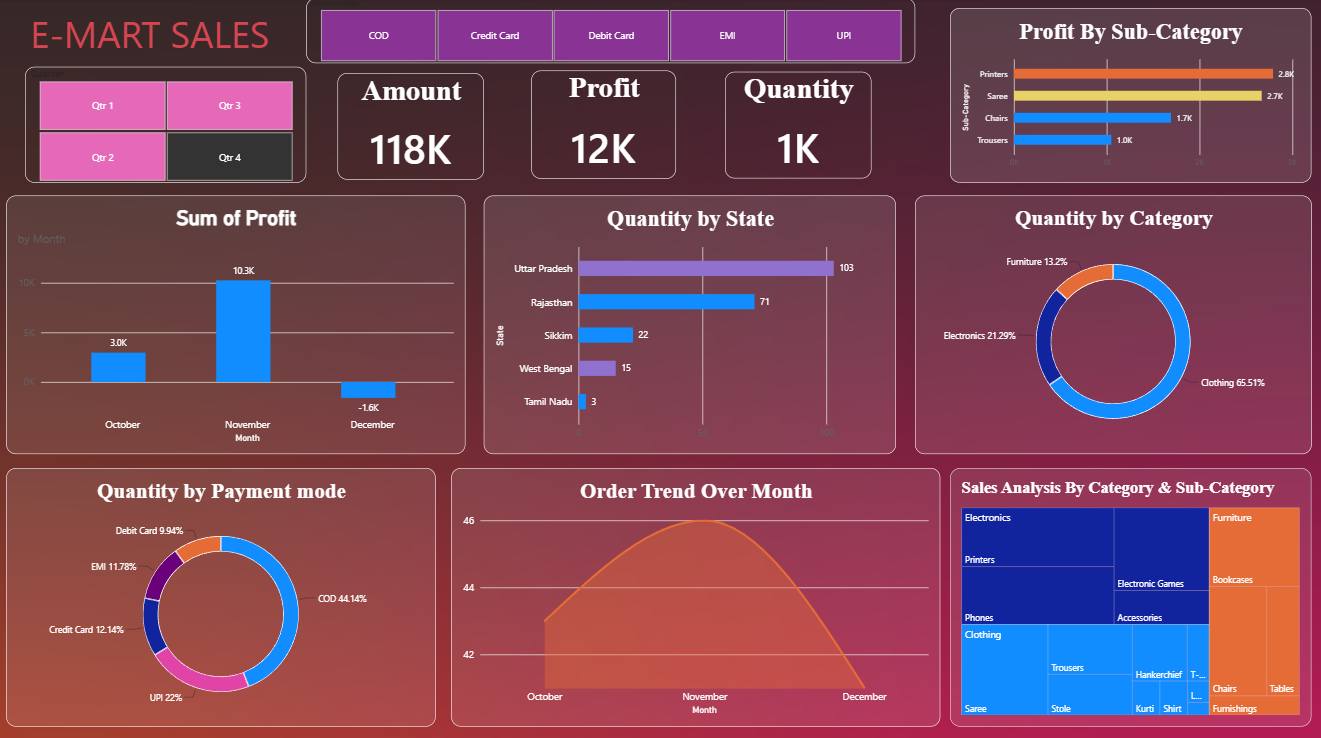

This screenshot's page, from the dashboard's own definition file:
{"tool":"powerbi","page":{"name":"Page 1","canvas":[1920,1080],"ordinal":0},"visuals":[{"type":"cardVisual","title":"Amount","fields":{"Data":["Sum(Details.Amount)"]},"box":[495.8,108.6,212,154.4],"z":0},{"type":"cardVisual","title":"Profit","fields":{"Data":["Sum(Details.Profit)"]},"box":[776.3,105,209.9,156.4],"z":1000},{"type":"cardVisual","title":"Quantity","fields":{"Data":["Sum(Details.Quantity)"]},"box":[1056.8,106.8,212,154.4],"z":2000},{"type":"barChart","title":"Profit By Sub-Category","fields":{"Category":["Details.Sub-Category"],"Y":["Sum(Details.Profit)"]},"box":[1383.2,14.4,522.8,253.2],"z":3000},{"type":"columnChart","fields":{"Category":["Orders.Order Date.Variation.Date Hierarchy.Month"],"Y":["Sum(Details.Profit)"]},"box":[16.5,286.1,664.8,374.6],"z":4000},{"type":"barChart","title":"Quantity by State","fields":{"Category":["Orders.State"],"Y":["Sum(Details.Quantity)"]},"box":[708.1,286.1,596.9,374.6],"z":5000},{"type":"donutChart","title":"Quantity by Category","fields":{"Category":["Details.Category"],"Y":["Sum(Details.Quantity)"]},"box":[1331.7,286.1,574.3,374.6],"z":6000},{"type":"donutChart","title":"Quantity by Payment mode","fields":{"Category":["Details.PaymentMode"],"Y":["Sum(Details.Quantity)"]},"box":[16.5,681.3,621.6,374.6],"z":7000},{"type":"areaChart","title":"Order Trend Over Month","fields":{"Category":["Orders.Order Date.Variation.Date Hierarchy.Month"],"Y":["CountNonNull(Orders.Order ID)"]},"box":[660.7,681.3,708.1,374.6],"z":8000},{"type":"treemap","title":"Sales Analysis By Category & Sub-Category","fields":{"Details":["Details.Sub-Category"],"Group":["Details.Category"],"Values":["Sum(Details.Amount)"]},"box":[1382.6,680.4,523,374.6],"z":9000},{"type":"slicer","fields":{"Values":["Details.PaymentMode"]},"box":[450.6,0,881.3,94.1],"z":9001},{"type":"slicer","fields":{"Values":["Orders.Order Date.Variation.Date Hierarchy.Quarter"]},"box":[43.4,99.5,407.2,168.3],"z":9002},{"type":"textbox","box":[16.3,14.5,416.2,186.4],"z":9003}]}

Visuals, with their boxes in screenshot pixels (x1, y1, x2, y2), scaled from the page's 1920x1080 canvas onto the 1321x738 screenshot:
"Amount" cardVisual: detection(341, 74, 487, 180)
"Profit" cardVisual: detection(534, 72, 679, 179)
"Quantity" cardVisual: detection(727, 73, 873, 178)
"Profit By Sub-Category" barChart: detection(952, 10, 1311, 183)
columnChart - Orders.Order Date.Variation.Date Hierarchy.Month x Sum(Details.Profit): detection(11, 196, 469, 451)
"Quantity by State" barChart: detection(487, 196, 898, 451)
"Quantity by Category" donutChart: detection(916, 196, 1311, 451)
"Quantity by Payment mode" donutChart: detection(11, 466, 439, 722)
"Order Trend Over Month" areaChart: detection(455, 466, 942, 722)
"Sales Analysis By Category & Sub-Category" treemap: detection(951, 465, 1311, 721)
slicer - Details.PaymentMode: detection(310, 0, 916, 64)
slicer - Orders.Order Date.Variation.Date Hierarchy.Quarter: detection(30, 68, 310, 183)
textbox: detection(11, 10, 298, 137)
